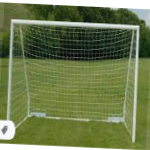goals: (3, 16, 142, 144)
